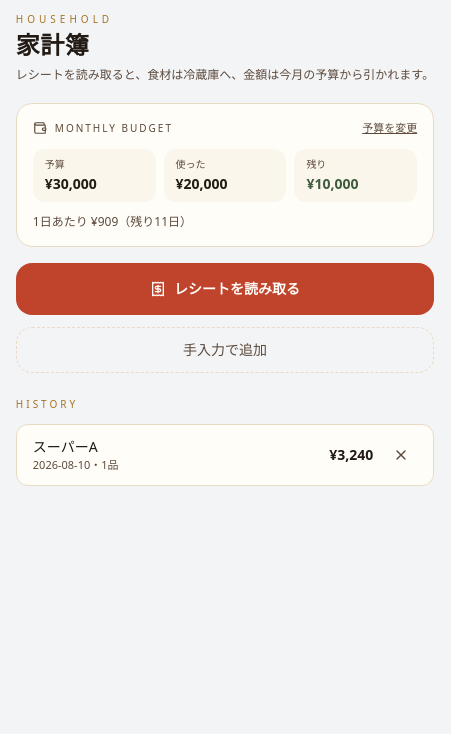
it: BudgetView — editing a record › leaves the record untouched when the edit is cancelled
Click the button with aria-label "2026-08-10 スーパーA を編集".
click(65, 446)  # box [33,436,317,473]
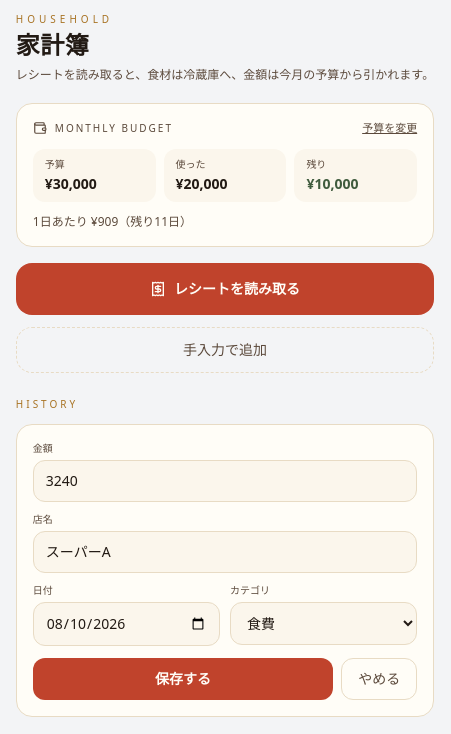
Click the button "やめる".
click(379, 678)  # box [341,658,417,700]
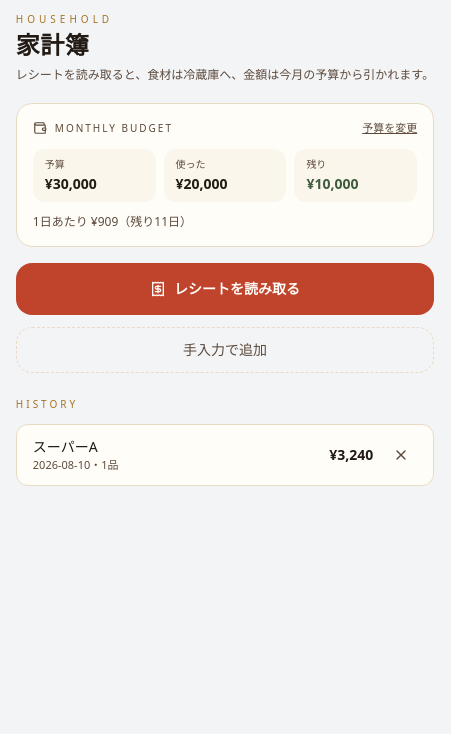
Now the button with aria-label "2026-08-10 スーパーA を編集" is shown, box [33,436,317,473]
